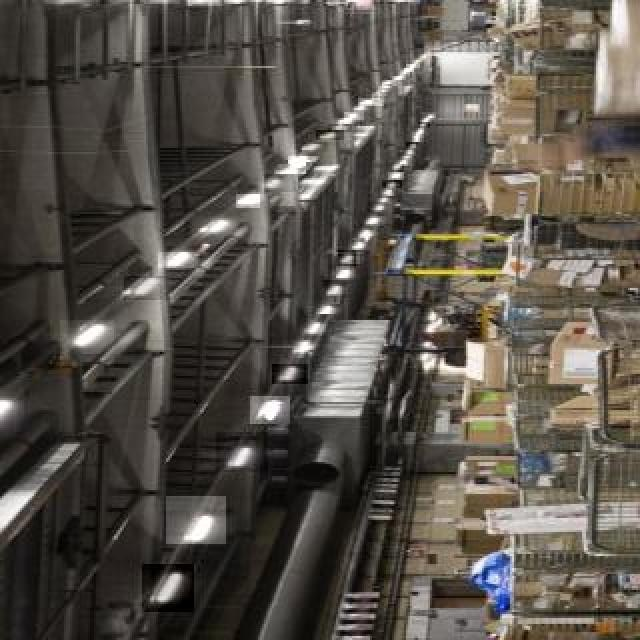fluorescent tube: (56, 309, 109, 369), (120, 271, 167, 322), (174, 504, 223, 549), (155, 241, 205, 283), (138, 560, 182, 607), (249, 397, 300, 435), (196, 212, 244, 252), (0, 395, 31, 440), (269, 360, 316, 384), (220, 440, 260, 467), (94, 0, 146, 18), (42, 0, 88, 16), (233, 191, 271, 207), (140, 0, 168, 18), (180, 0, 226, 8)
